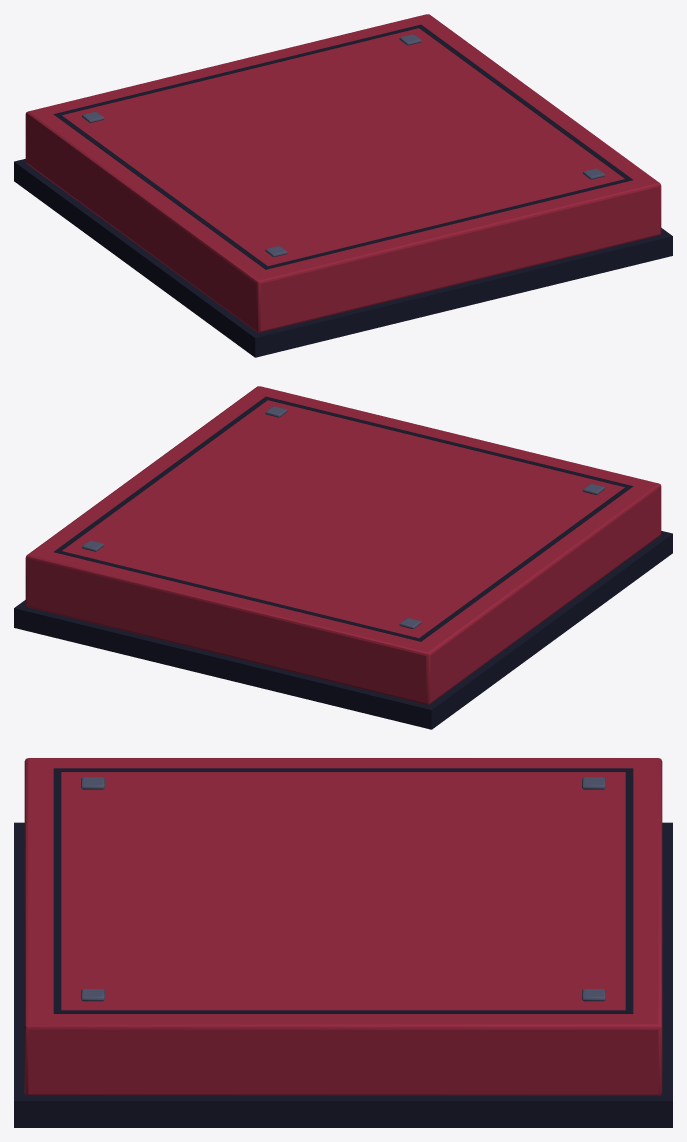
The model's file is roof.square.accent.glb.
3 views of the same model, one above another, from view 1: azimuth 30°, elevation 25°; view 2: azimuth 150°, elevation 25°; view 3: azimuth 270°, elevation 25° (orthographic). The views are drawn at different scales.
Parts seen in each view (by area): view 1: GEO-roof.square.accent; view 2: GEO-roof.square.accent; view 3: GEO-roof.square.accent.
Part boxes in pixels (<box>): GEO-roof.square.accent: <box>14,14,672,357</box>; GEO-roof.square.accent: <box>14,386,672,729</box>; GEO-roof.square.accent: <box>14,758,672,1127</box>.
Size of the model in its own units: 1 by 0.17 by 1.
